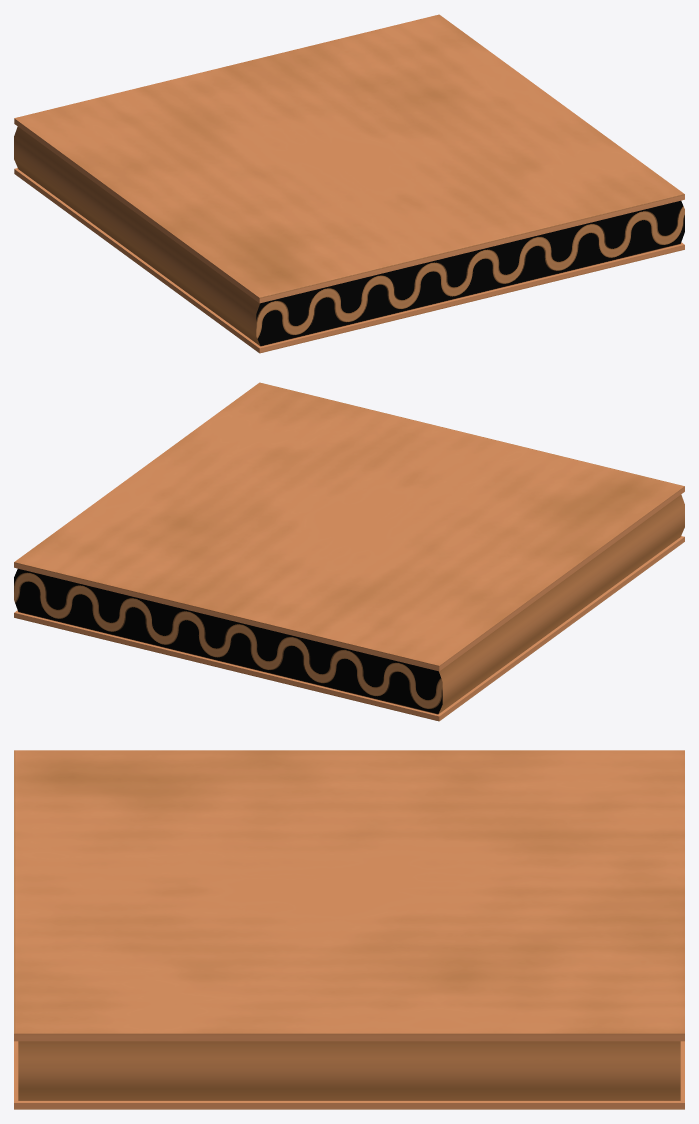
Rendered from M_Cardboard_Square_2x2.fbx.
3 views of the same model, one above another, from view 1: azimuth 30°, elevation 25°; view 2: azimuth 150°, elevation 25°; view 3: azimuth 270°, elevation 25° (orthographic). The views are drawn at different scales.
Visible parts, largest first — view 1: Panel, Sides; view 2: Panel, Sides; view 3: Panel, Sides.
Boxes of the visible parts, x1=… form: Panel: x1=14, y1=14, x2=684, y2=297; Sides: x1=14, y1=118, x2=684, y2=353; Panel: x1=14, y1=382, x2=684, y2=665; Sides: x1=14, y1=486, x2=684, y2=721; Panel: x1=14, y1=750, x2=684, y2=1033; Sides: x1=14, y1=1033, x2=684, y2=1109.
Size of the model in its own units: 4.03 by 0.5 by 4.
Materials: 1 (1 with a texture image).
